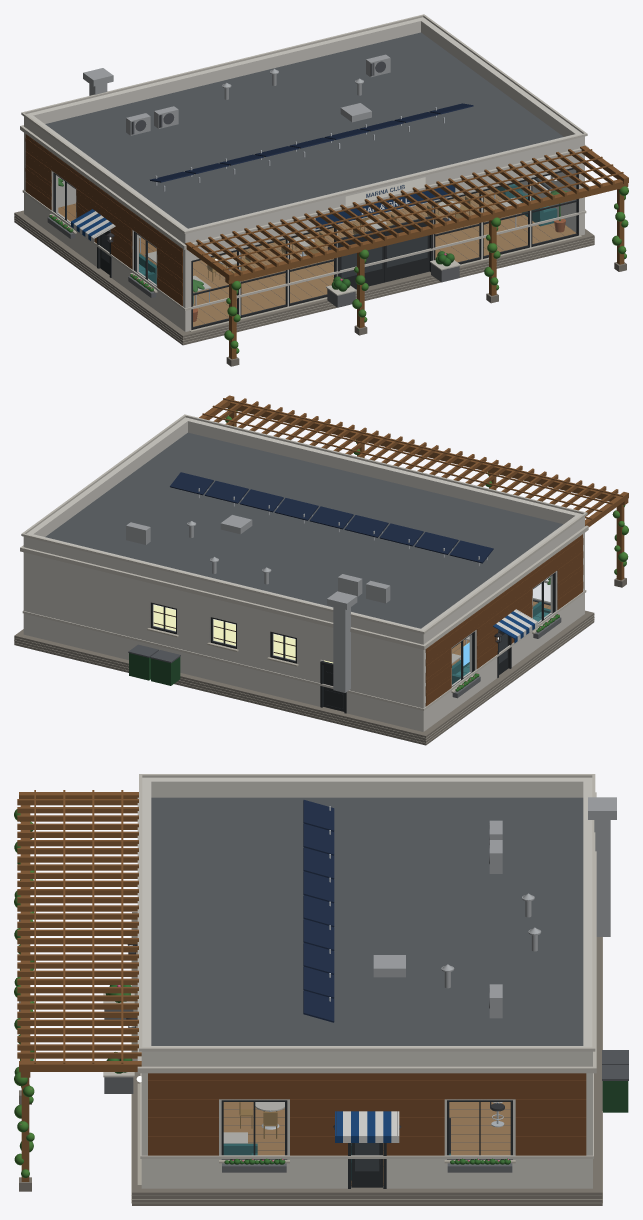
The model's file is clubhouse.glb.
3 renders of one model, top to bottom at view 1: azimuth 30°, elevation 25°; view 2: azimuth 150°, elevation 25°; view 3: azimuth 270°, elevation 25°, orthographic. The views are drawn at different scales.
Visible parts, largest first — view 1: plinth_stone_m, window_frame_dark_m, sign_bar_grill_m, sign_marina_club_m; view 2: plinth_stone_m, window_frame_dark_m, backbar_lit_m; view 3: plinth_stone_m, window_frame_dark_m.
Part boxes in pixels (x1,y1,x2,y2): plinth_stone_m: (14,14,628,366); window_frame_dark_m: (53,61,578,329); sign_bar_grill_m: (315,185,455,229); sign_marina_club_m: (345,177,425,205); plinth_stone_m: (14,395,628,745); window_frame_dark_m: (128,472,555,713); backbar_lit_m: (153,604,332,663); plinth_stone_m: (14,774,628,1205); window_frame_dark_m: (126,800,628,1188).
Bounding box in the file's own units: 22.22 × 6.1 × 19.08.
9 materials, 2 textured.
